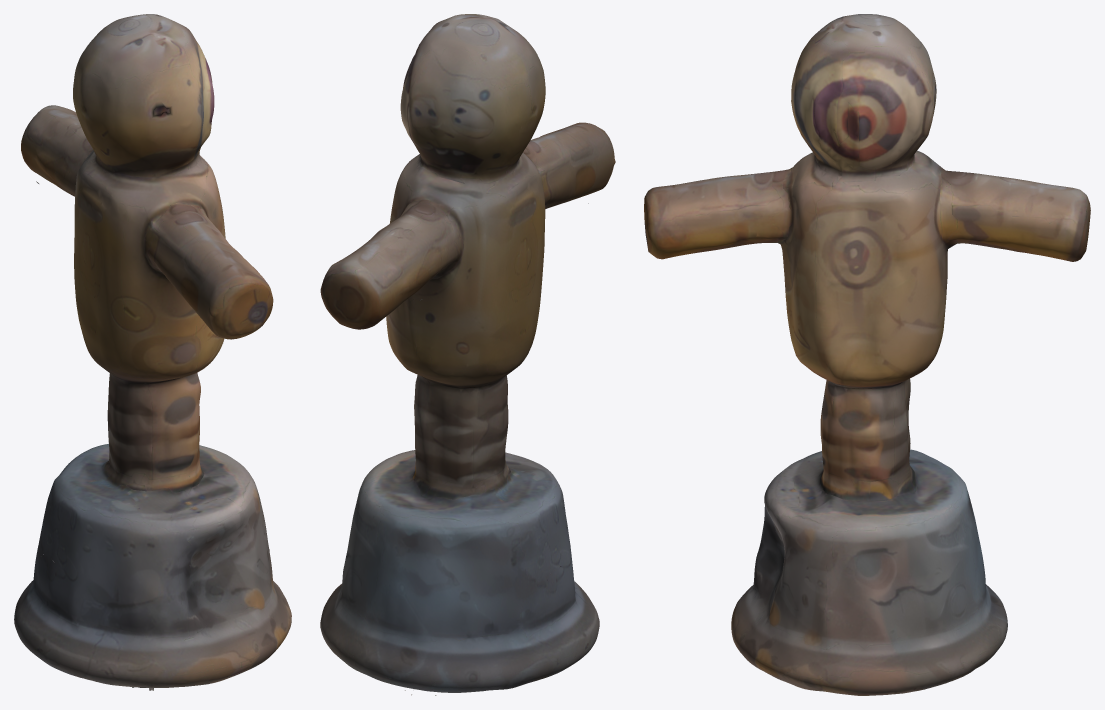
File: dummy.fbx
3 views of the same model, side by side, from view 1: azimuth 30°, elevation 25°; view 2: azimuth 150°, elevation 25°; view 3: azimuth 270°, elevation 25° (orthographic).
Visible parts, largest first — view 1: Mesh_0; view 2: Mesh_0; view 3: Mesh_0.
Boxes of the visible parts, x1,y1,x2,y2 form: Mesh_0: (14, 14, 291, 690); Mesh_0: (320, 14, 615, 695); Mesh_0: (644, 14, 1090, 695).
Bounding box in the file's own units: 48.09 × 120 × 76.93.
1 material, 1 textured.
